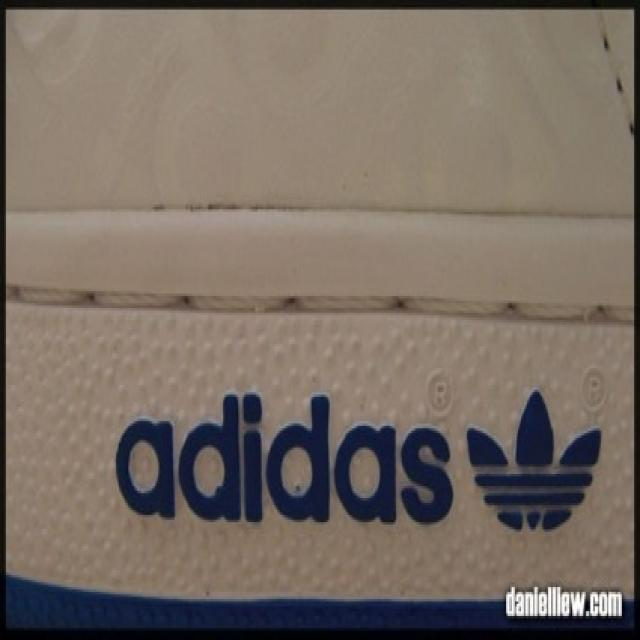adidas: (459, 379, 612, 550)
